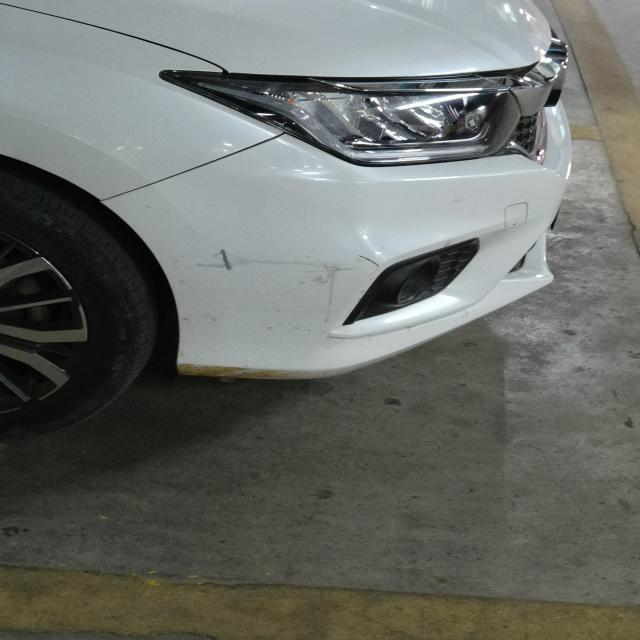scratch: (197, 243, 251, 280), (348, 249, 390, 273)
